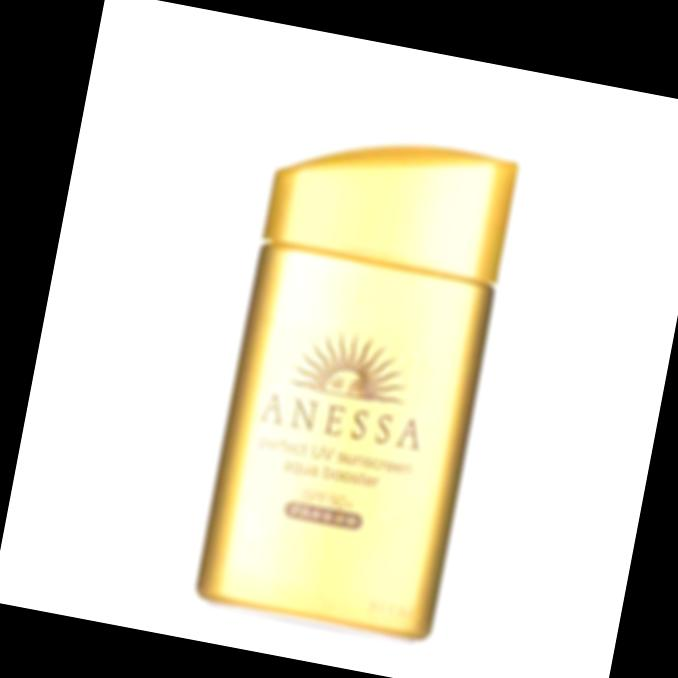cosmetic: (189, 115, 522, 639)
